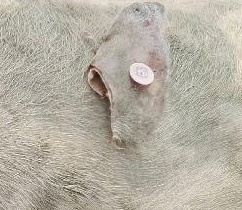text: (117, 52, 170, 98)
